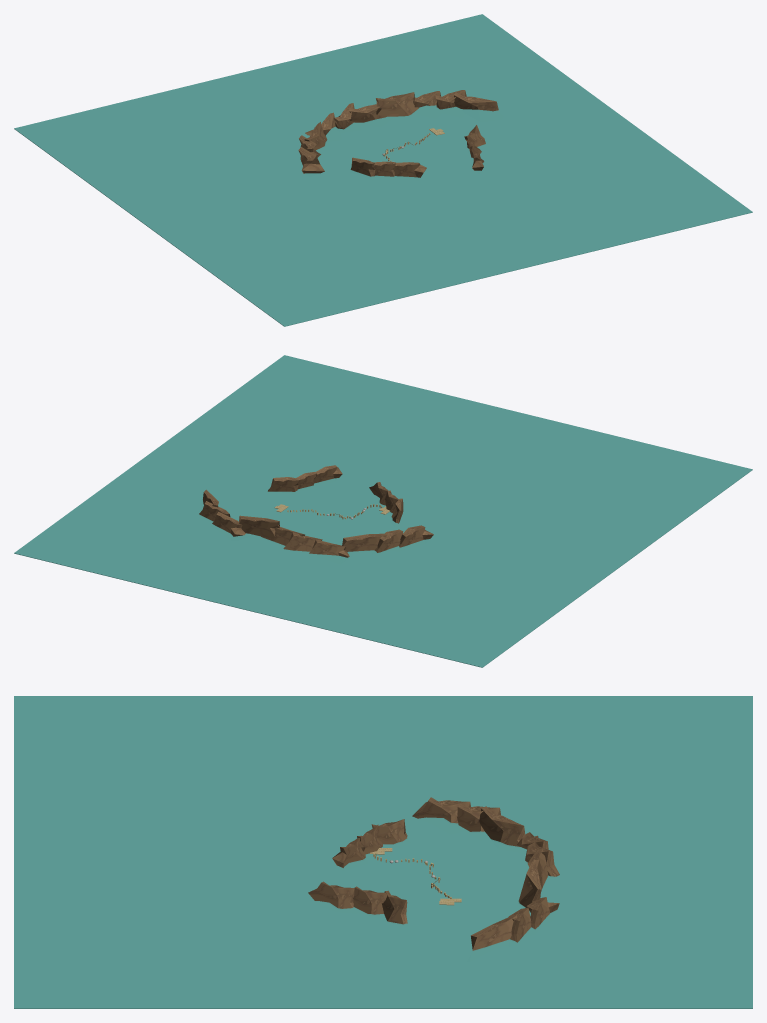
The model's file is world.glb.
3 renders of one model, top to bottom at view 1: azimuth 30°, elevation 25°; view 2: azimuth 150°, elevation 25°; view 3: azimuth 270°, elevation 25°, orthographic. The views are drawn at different scales.
Visible parts, largest first — view 1: Cube.048, Cube.002, Cube.030, Cube.029; view 2: Cube.048, Cube.002, Cube.030, Cube.023; view 3: Cube.048, Cube.002, Cube.023, Cube.029, Cube.022, Cube.038, Cube.030, Cube.039, Cube.021, Cube.037, Cube.006, Cube.028 (+2 smaller).
Boxes of the visible parts, <box> form: Cube.048: <box>14,14,752,326</box>; Cube.002: <box>14,14,752,326</box>; Cube.030: <box>376,92,418,116</box>; Cube.029: <box>454,92,498,111</box>; Cube.048: <box>14,355,752,667</box>; Cube.002: <box>14,355,752,667</box>; Cube.030: <box>238,515,279,538</box>; Cube.023: <box>342,533,386,551</box>; Cube.048: <box>14,696,752,1008</box>; Cube.002: <box>14,696,752,1008</box>; Cube.023: <box>479,806,525,846</box>; Cube.029: <box>471,915,516,950</box>; Cube.022: <box>412,797,470,823</box>; Cube.038: <box>308,881,354,908</box>; Cube.030: <box>518,859,541,907</box>; Cube.039: <box>353,886,387,914</box>; Cube.021: <box>457,803,500,831</box>; Cube.037: <box>382,890,407,924</box>; Cube.006: <box>371,819,407,844</box>; Cube.028: <box>526,897,559,929</box>.
Size of what is drawn, in the model's own units: 2000 by 118 by 2000.
Materials: 34 (32 with a texture image).
